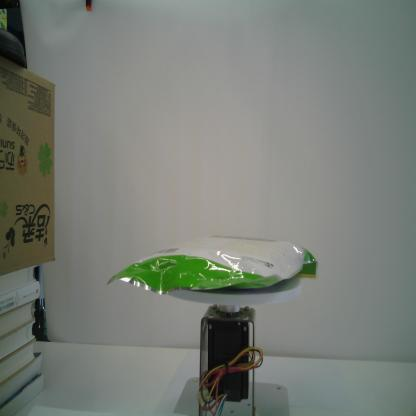Dried Food: (105, 234, 319, 295)
